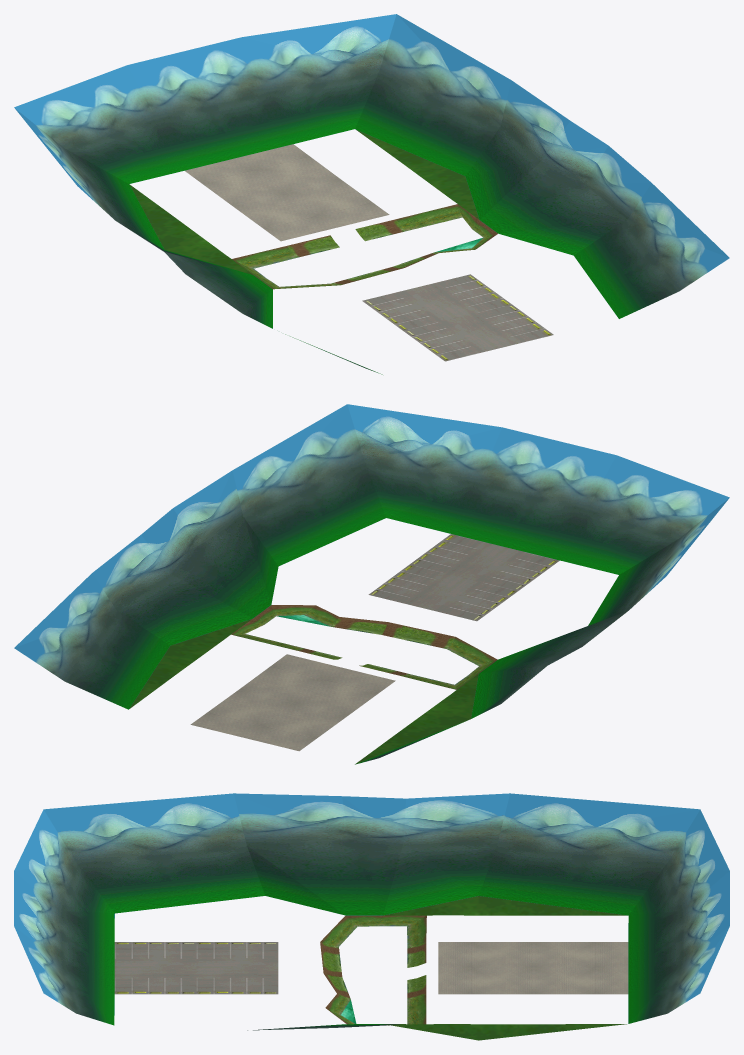
Rendered from Mount.glb.
3 views of the same model, one above another, from view 1: azimuth 30°, elevation 25°; view 2: azimuth 150°, elevation 25°; view 3: azimuth 270°, elevation 25° (orthographic).
Visible parts, largest first — view 1: Mount; view 2: Mount; view 3: Mount.
Boxes of the visible parts, <box> form: Mount: <box>14,14,729,374</box>; Mount: <box>14,404,729,764</box>; Mount: <box>14,793,729,1040</box>.
Bounding box in the file's own units: 25458 × 4094 × 36218.
Materials: 11 (11 with a texture image).
